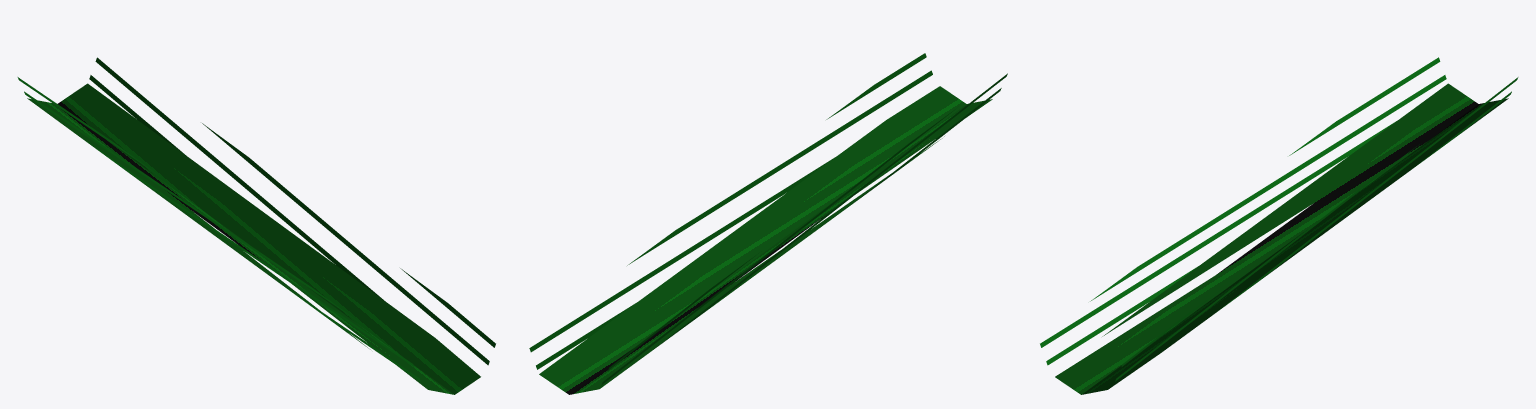
Rendered from scud_b.obj.
The picture shows the model from 3 angles, left to right: view 1: azimuth 30°, elevation 25°; view 2: azimuth 150°, elevation 25°; view 3: azimuth 330°, elevation 25°; orthographic projection.
Parts seen in each view (by area): view 1: body; view 2: body; view 3: body.
Boxes of the visible parts, x1,y1,x2,y2 form: body: [17, 57, 495, 394]; body: [529, 53, 1007, 394]; body: [1040, 57, 1518, 394].
Size of the model in its own units: 2 by 2 by 16.
